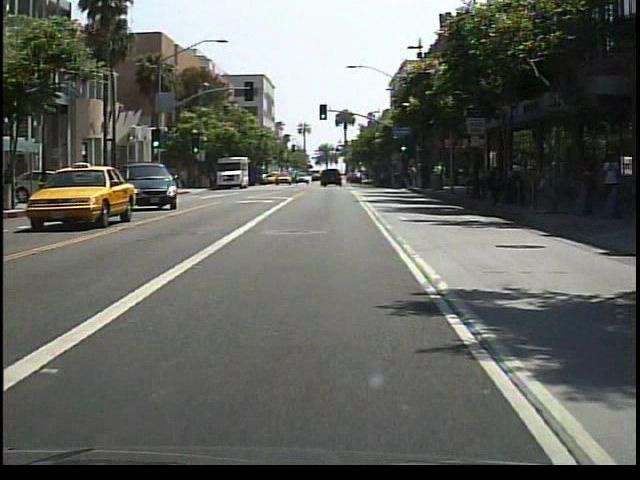person: (596, 151, 623, 191), (177, 163, 191, 189)
